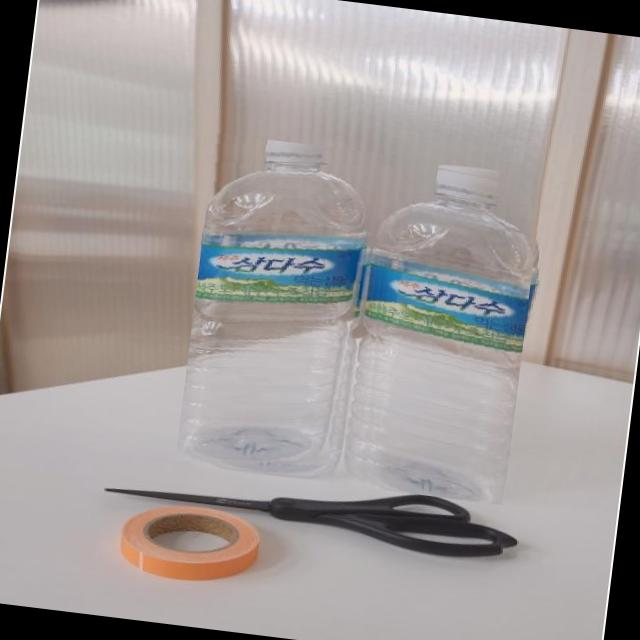plastic bottle: (175, 133, 384, 483), (350, 156, 543, 504)
